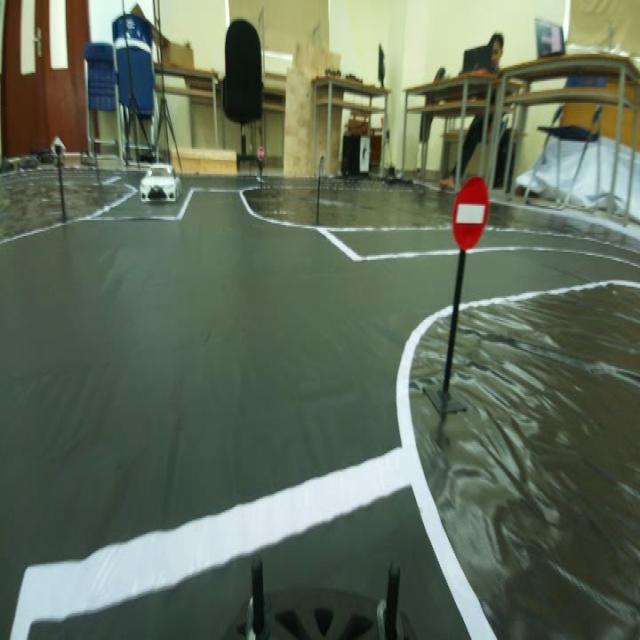no_entry: (447, 167, 495, 253)
